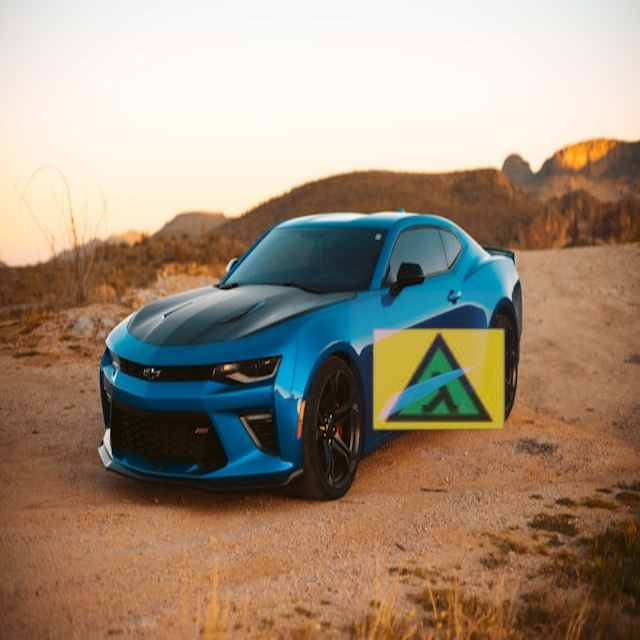symbol: (350, 291, 528, 469)
